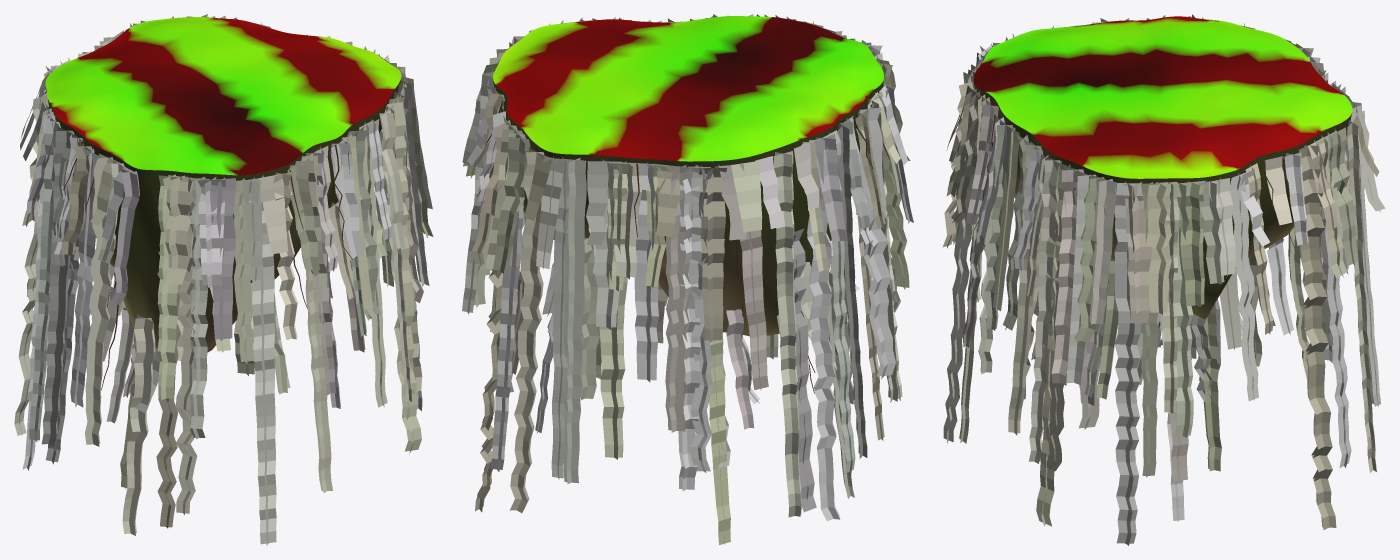
The model's file is SM_H16_Floater01.fbx.
The picture shows the model from 3 angles, left to right: view 1: azimuth 30°, elevation 25°; view 2: azimuth 150°, elevation 25°; view 3: azimuth 270°, elevation 25°; orthographic projection. The views are drawn at different scales.
Visible parts, largest first — view 1: SM_H16_Floater01_Ivy, SM_H16_Floater01; view 2: SM_H16_Floater01_Ivy, SM_H16_Floater01; view 3: SM_H16_Floater01_Ivy, SM_H16_Floater01.
Part boxes in pixels (<box>): SM_H16_Floater01_Ivy: <box>14,14,433,545</box>; SM_H16_Floater01: <box>45,17,401,352</box>; SM_H16_Floater01_Ivy: <box>462,14,913,544</box>; SM_H16_Floater01: <box>493,16,884,336</box>; SM_H16_Floater01_Ivy: <box>942,14,1385,545</box>; SM_H16_Floater01: <box>973,16,1352,327</box>.
Bounding box in the file's own units: 31.55 × 33.79 × 32.21.
